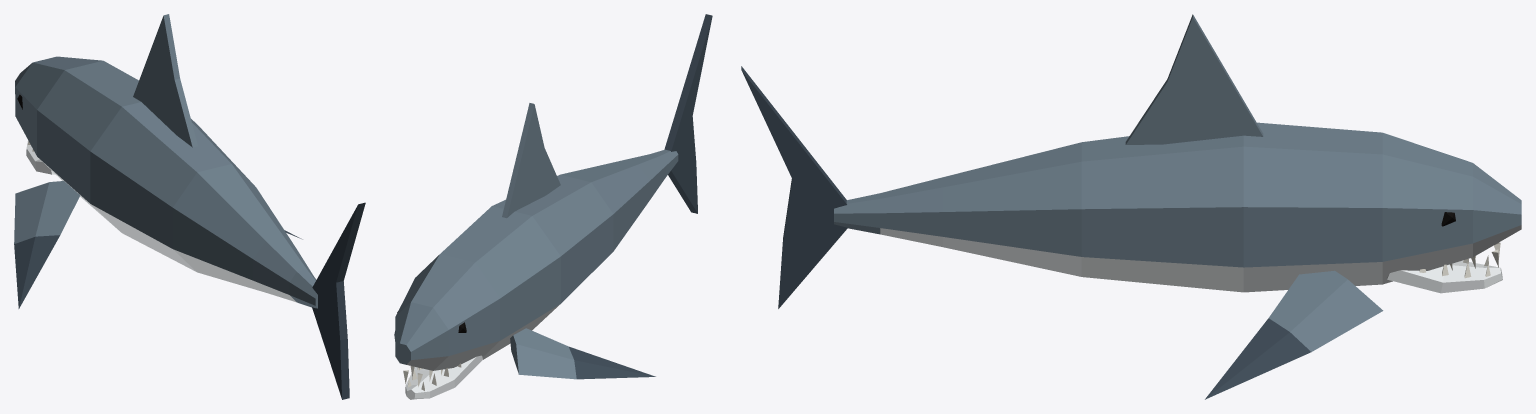
File: shark.glb
The picture shows the model from 3 angles, left to right: view 1: azimuth 30°, elevation 25°; view 2: azimuth 150°, elevation 25°; view 3: azimuth 270°, elevation 25°; orthographic projection. The views are drawn at different scales.
Parts seen in each view (by area): view 1: Body, Fin_Tail, Fin_L, Fin_Dorsal, Jaw; view 2: Body, Fin_L, Fin_Tail, Fin_Dorsal, Jaw; view 3: Body, Fin_Tail, Fin_Dorsal, Fin_R, Jaw.
Part boxes in pixels (bbox=[...]): Body: bbox=[15, 56, 313, 301]; Fin_Tail: bbox=[289, 202, 365, 399]; Fin_L: bbox=[14, 181, 80, 308]; Fin_Dorsal: bbox=[133, 14, 197, 147]; Jaw: bbox=[26, 140, 55, 174]; Body: bbox=[395, 154, 665, 386]; Fin_L: bbox=[510, 328, 655, 379]; Fin_Tail: bbox=[651, 14, 712, 213]; Fin_Dorsal: bbox=[502, 103, 560, 218]; Jaw: bbox=[405, 355, 482, 399]; Body: bbox=[880, 122, 1521, 292]; Fin_Tail: bbox=[741, 66, 880, 308]; Fin_Dorsal: bbox=[1125, 14, 1263, 144]; Fin_R: bbox=[1205, 270, 1383, 399]; Jaw: bbox=[1386, 255, 1502, 293].
Bounding box in the file's own units: 1.56 × 1.38 × 3.2.
